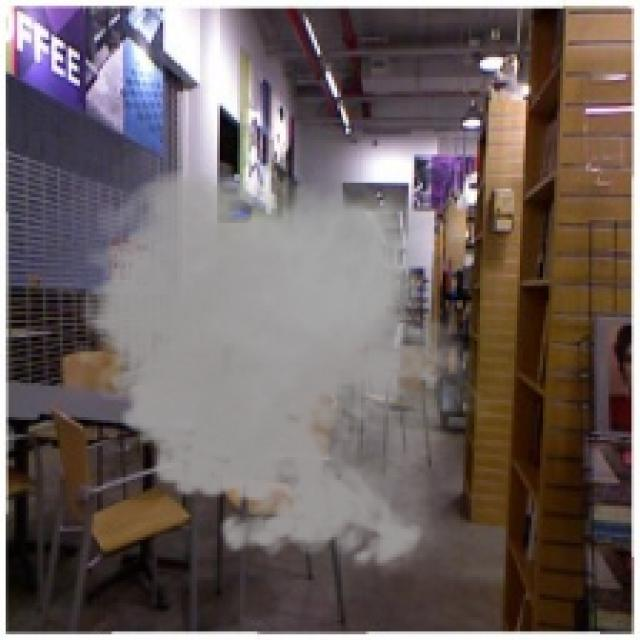smoke: (66, 154, 491, 580)
